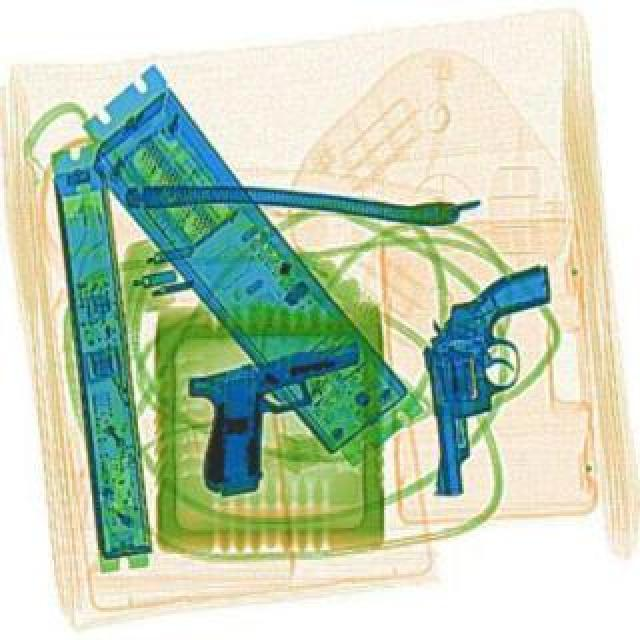gun: (416, 264, 564, 494), (176, 338, 384, 498)
